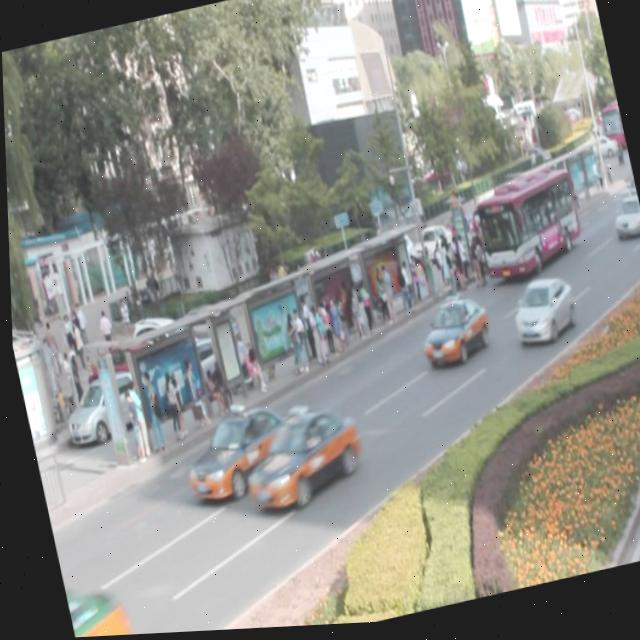car: (230, 403, 365, 516), (172, 396, 309, 505), (410, 294, 491, 373), (501, 276, 577, 354), (59, 574, 132, 638), (605, 200, 640, 247), (619, 180, 638, 217)
van: (462, 166, 582, 290)
